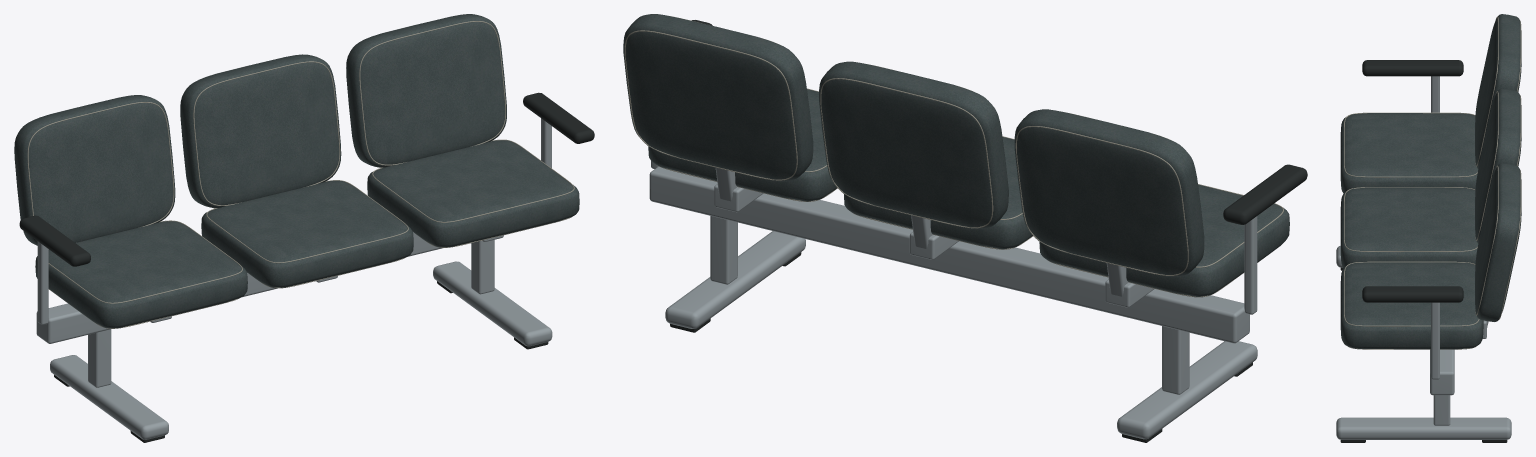
Rendered from tandem-seats.glb.
3 views of the same model, side by side, from view 1: azimuth 30°, elevation 25°; view 2: azimuth 150°, elevation 25°; view 3: azimuth 270°, elevation 25° (orthographic). The views are drawn at different scales.
Visible parts, largest first — view 1: Upholstery | independent waiting seat, Steel | continuous common beam, Upholstery | independent waiting seat | lower tailored welt, Polymer | end armrest; view 2: Upholstery | independent waiting seat, Steel | continuous common beam, Upholstery | independent waiting seat | lower tailored welt, Polymer | end armrest; view 3: Upholstery | independent waiting seat, Steel | continuous common beam, Polymer | end armrest, Upholstery | independent waiting seat | lower tailored welt.
Boxes of the visible parts, box(x1,y1,x2,y2) form: Upholstery | independent waiting seat: box(14, 14, 579, 328); Steel | continuous common beam: box(36, 118, 552, 439); Upholstery | independent waiting seat | lower tailored welt: box(27, 21, 574, 328); Polymer | end armrest: box(19, 92, 594, 442); Upholstery | independent waiting seat: box(623, 14, 1289, 296); Steel | continuous common beam: box(649, 161, 1257, 439); Upholstery | independent waiting seat | lower tailored welt: box(624, 16, 1283, 297); Polymer | end armrest: box(670, 20, 1307, 442); Upholstery | independent waiting seat: box(1340, 14, 1521, 349); Steel | continuous common beam: box(1336, 76, 1511, 439); Polymer | end armrest: box(1340, 60, 1507, 442); Upholstery | independent waiting seat | lower tailored welt: box(1344, 16, 1521, 349).
Size of the model in its own units: 1.98 by 0.9435 by 0.6577.
4 materials, 1 textured.
